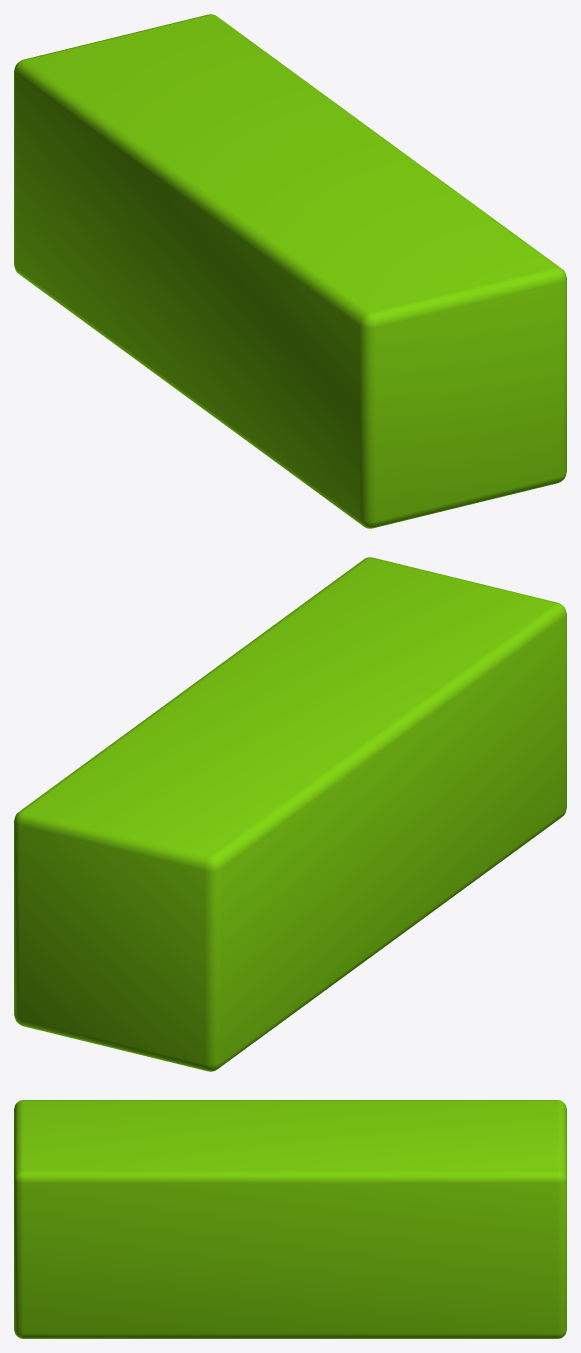
Rendered from Cuis_LightGreen.fbx.
3 views of the same model, one above another, from view 1: azimuth 30°, elevation 25°; view 2: azimuth 150°, elevation 25°; view 3: azimuth 270°, elevation 25° (orthographic). The views are drawn at different scales.
Visible parts, largest first — view 1: LightGreen; view 2: LightGreen; view 3: LightGreen.
Boxes of the visible parts, x1=… form: LightGreen: x1=14, y1=14, x2=566, y2=528; LightGreen: x1=14, y1=557, x2=566, y2=1071; LightGreen: x1=14, y1=1100, x2=566, y2=1338.
Bounding box in the file's own units: 1 × 1 × 3.
